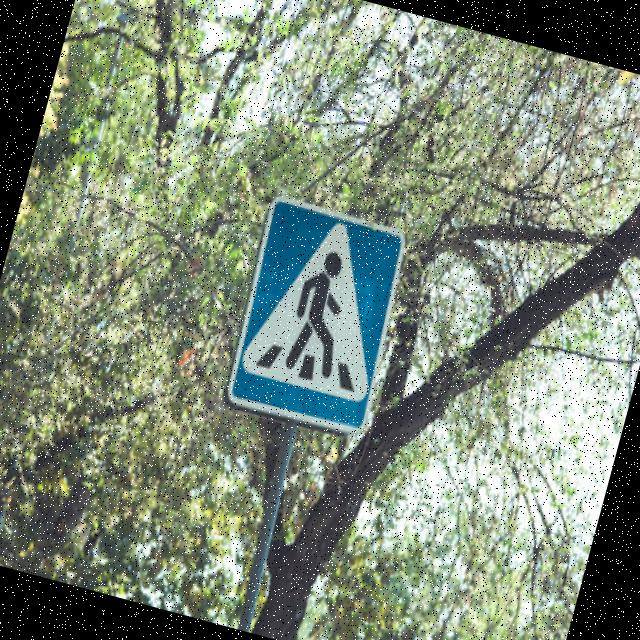crosswalk: (204, 174, 429, 457)
